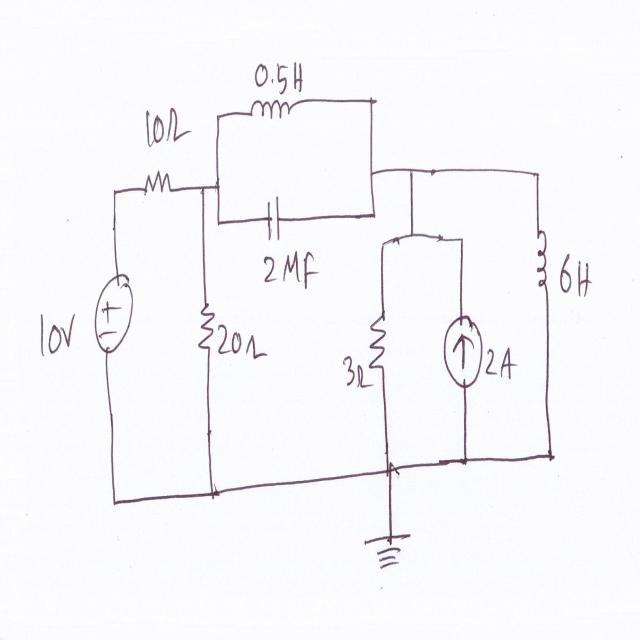capacitor: (264, 186, 284, 247)
current_source: (439, 310, 485, 393)
ground: (362, 532, 414, 576)
inductor: (245, 88, 294, 128), (531, 222, 550, 300)
resistor: (140, 159, 177, 205), (368, 307, 388, 378), (196, 299, 217, 362)
voltage_source: (92, 270, 134, 360)
